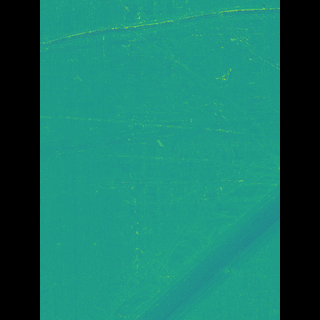Loch: (123, 140, 252, 320), (121, 0, 192, 273), (69, 0, 251, 58), (69, 107, 250, 164)
